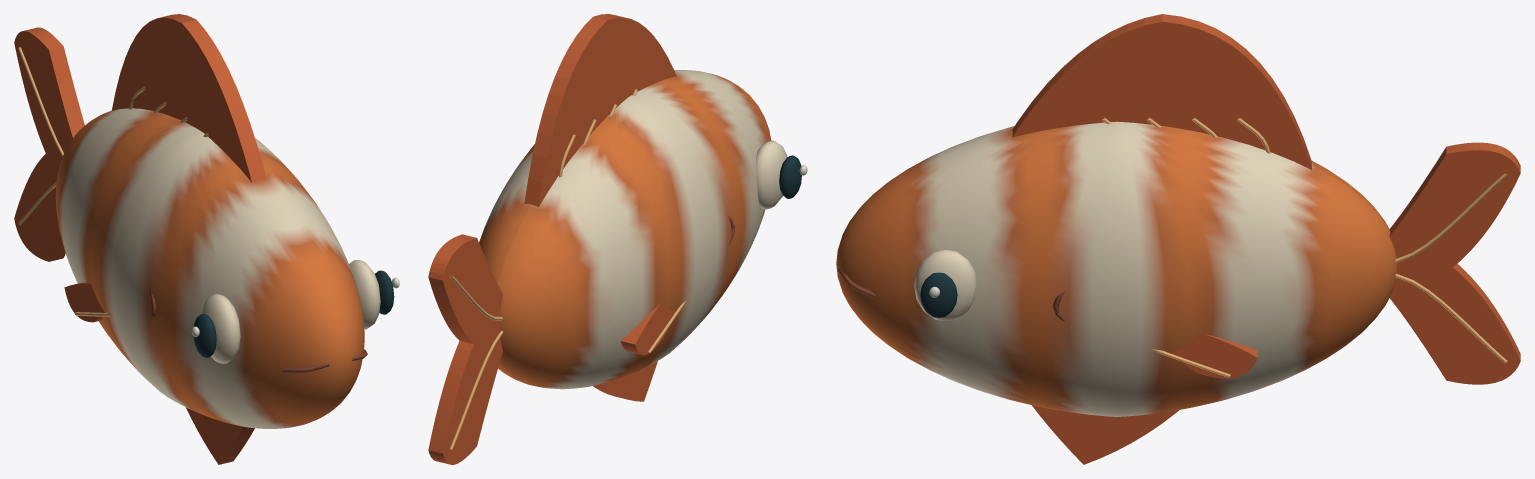
Rendered from ocean-fish-0.glb.
3 renders of one model, left to right at view 1: azimuth 30°, elevation 25°; view 2: azimuth 150°, elevation 25°; view 3: azimuth 270°, elevation 25°, orthographic. The views are drawn at different scales.
Parts seen in each view (by area): view 1: Body, Tail, PectoralFins; view 2: Body, Tail, PectoralFins; view 3: Body, Tail, PectoralFins.
Boxes of the visible parts, box(x1,y1,x2,y2) form: Body: box(55, 14, 399, 464); Tail: box(14, 27, 84, 261); PectoralFins: box(64, 282, 111, 322); Body: box(479, 14, 807, 401); Tail: box(428, 234, 503, 464); PectoralFins: box(621, 299, 687, 355); Body: box(836, 14, 1397, 464); Tail: box(1389, 142, 1520, 384); PectoralFins: box(1150, 333, 1257, 378).
Bounding box in the file's own units: 0.489 × 0.9393 × 1.31.
